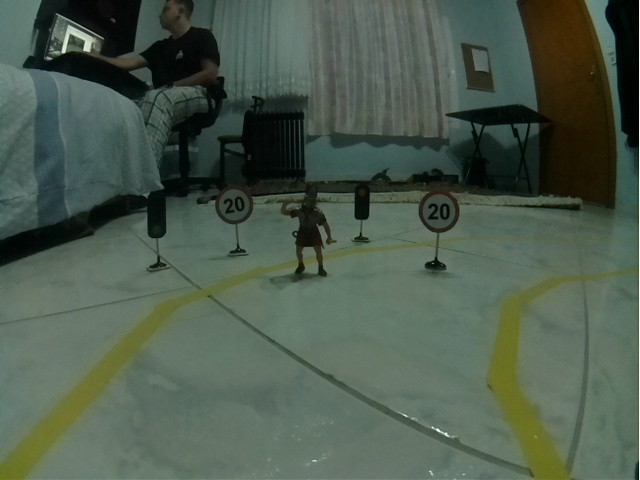Green Traffic Light: (147, 192, 167, 239)
Person: (280, 183, 337, 277)
Red Traffic Light: (354, 183, 370, 220)
Speed Limit 20: (419, 191, 459, 233), (215, 187, 253, 224)
